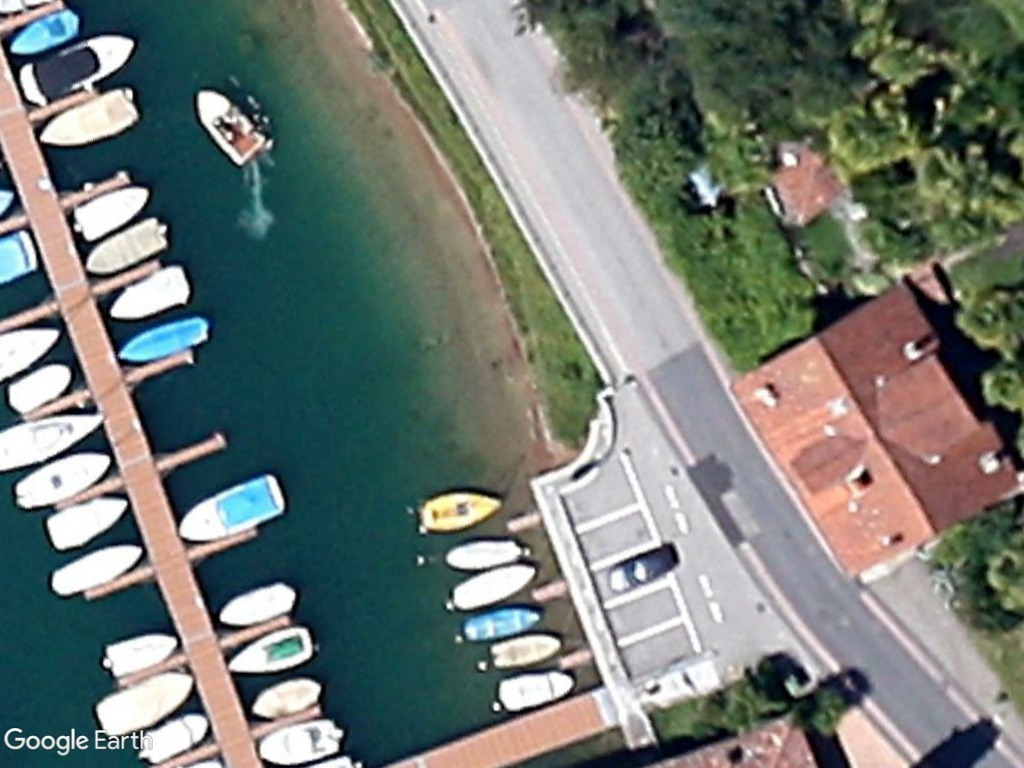boat: (174, 468, 292, 547), (20, 28, 133, 110), (92, 666, 198, 744), (10, 443, 118, 515), (40, 81, 140, 153), (49, 536, 150, 604), (84, 208, 174, 278), (191, 85, 268, 166), (42, 485, 129, 556), (105, 257, 198, 321), (256, 705, 349, 766), (114, 308, 211, 365), (220, 621, 317, 678), (446, 556, 539, 615), (68, 176, 149, 241), (98, 624, 184, 681), (0, 353, 73, 420), (4, 2, 84, 62), (416, 489, 509, 539), (217, 575, 300, 631), (493, 663, 577, 715), (246, 673, 326, 724), (458, 601, 545, 647), (484, 628, 567, 672), (442, 534, 525, 572)
